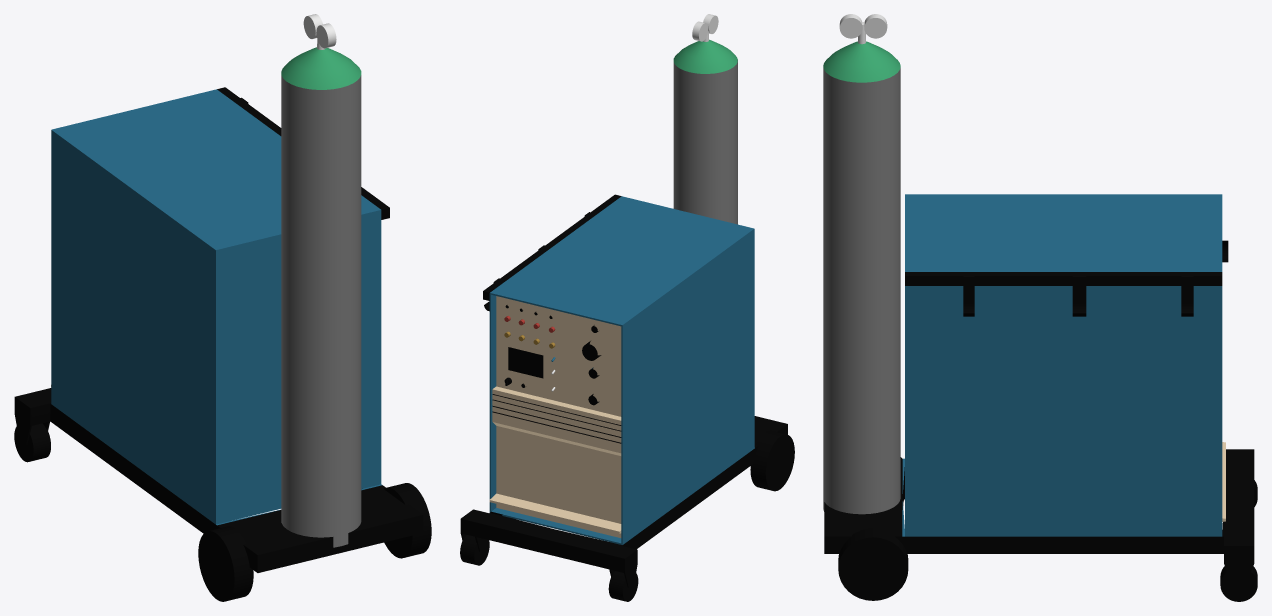
The model's file is Schweissgeraet.dae.
3 renders of one model, left to right at view 1: azimuth 30°, elevation 25°; view 2: azimuth 150°, elevation 25°; view 3: azimuth 270°, elevation 25°, orthographic. The views are drawn at different scales.
Parts seen in each view (by area): view 1: Grundkoerper, Gasflasche, Untergestell_und_Haken; view 2: Grundkoerper, Front, Untergestell_und_Haken, Gasflasche, Display, Lueftungsschlitze; view 3: Grundkoerper, Gasflasche, Untergestell_und_Haken.
Part boxes in pixels (x1,y1,x2,y2): Grundkoerper: [51, 89, 382, 525]; Gasflasche: [281, 14, 361, 547]; Untergestell_und_Haken: [14, 87, 431, 601]; Grundkoerper: [489, 196, 754, 544]; Front: [489, 296, 621, 537]; Untergestell_und_Haken: [460, 194, 794, 601]; Gasflasche: [673, 14, 737, 224]; Display: [508, 347, 543, 378]; Lueftungsschlitze: [492, 394, 621, 443]; Grundkoerper: [902, 194, 1222, 536]; Gasflasche: [823, 14, 900, 514]; Untergestell_und_Haken: [824, 272, 1257, 601].
Bounding box in the file's own units: 0.7941 × 1.49 × 2.04.
